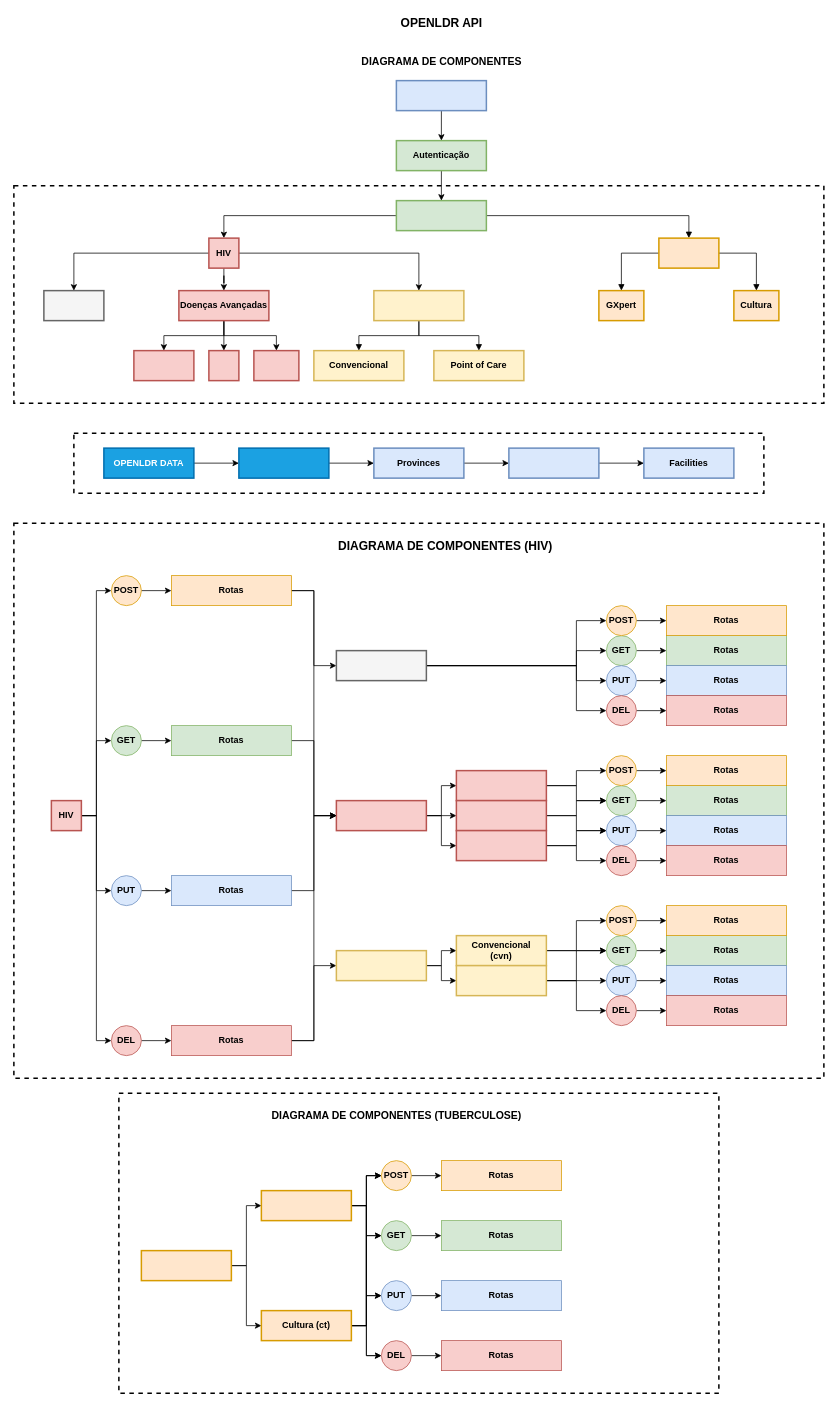
Image size: 837x1406. Some labels were removed from this diagram. Here are the shapes that lost their labels. From the top down, the box of each, then its label:
(395, 80, 487, 111): Cliente
(395, 200, 487, 231): API OpenLDR
(658, 237, 719, 268): Tuberculose
(43, 290, 104, 321): Carga Viral
(373, 290, 464, 321): DPI
(133, 350, 194, 381): Crytococcus
(208, 350, 239, 381): CD4
(253, 350, 299, 381): TBLAM
(238, 447, 329, 478): OPENLDR DICT
(508, 447, 599, 478): Districts
(335, 650, 427, 681): Carga Viral (cv)
(455, 770, 547, 801): TBLAM (tblam)
(335, 800, 427, 831): Doenças Avançadas (da)
(455, 800, 547, 831): CD4 (cd4)
(455, 830, 547, 861): CRYTOCOCCUS (crag)
(335, 950, 427, 981): DPI (dpi)
(455, 964, 547, 996): POC (poc)
(260, 1190, 352, 1221): GXPert (gx)
(140, 1250, 232, 1281): Tuberculose (tb)
